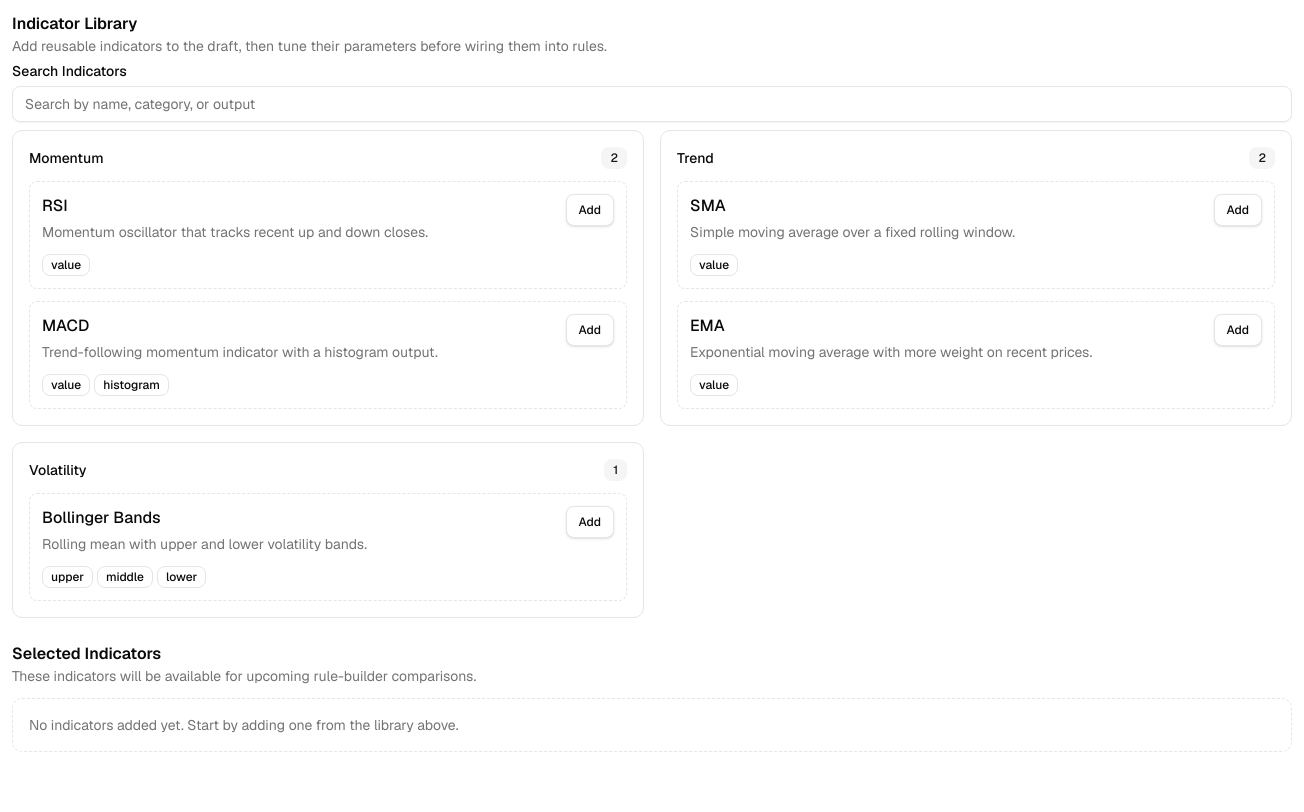
Test: CustomStrategyIndicatorLibrary › filters the catalog using the search input
This screenshot has width=1304, height=812.
Type "volatility" into the field with test id "custom-indicator-search-input" at coordinates (652, 104), box [12,86,1292,122]
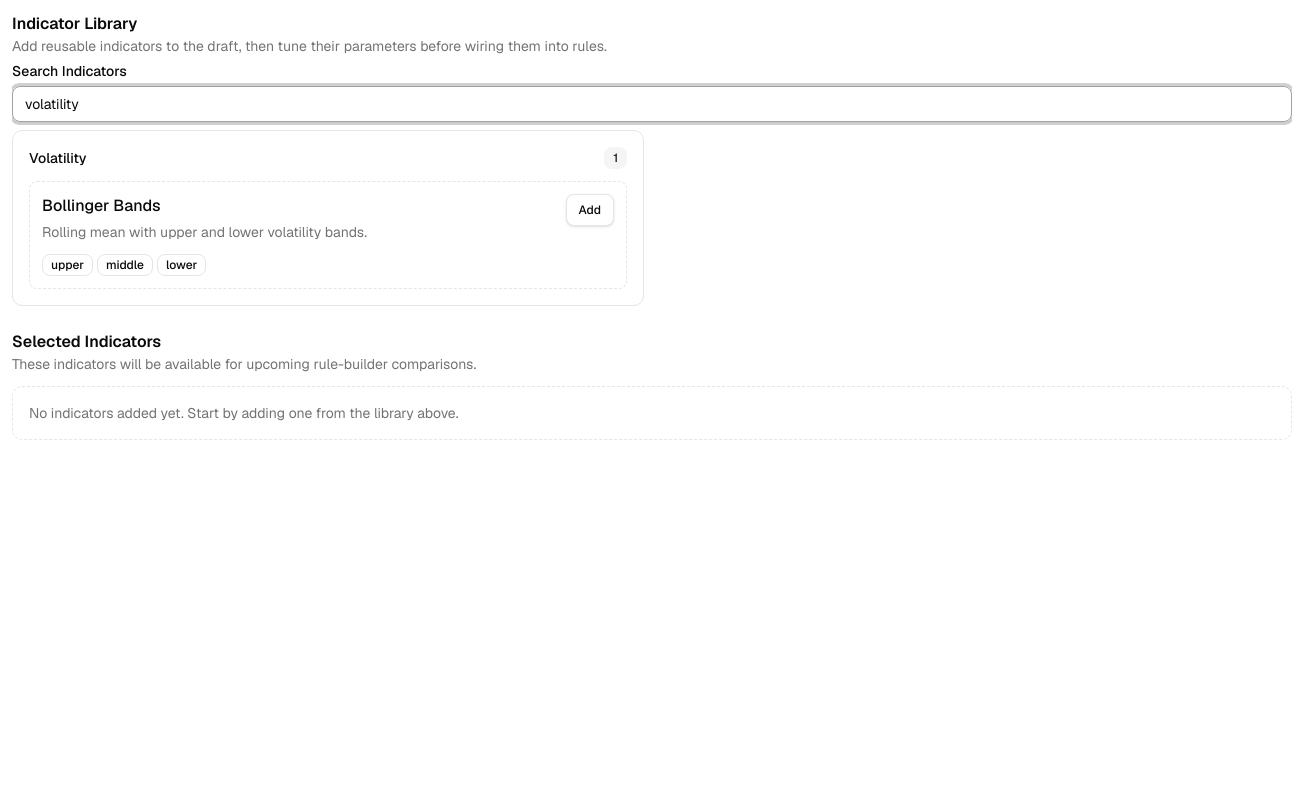
expect the element with test id "indicator-catalog-card-BOLLINGER_BANDS" is shown: met, box [29,181,627,289]
expect the element with test id "indicator-catalog-card-RSI" is gone: met
expect the element with test id "indicator-catalog-card-SMA" is gone: met
